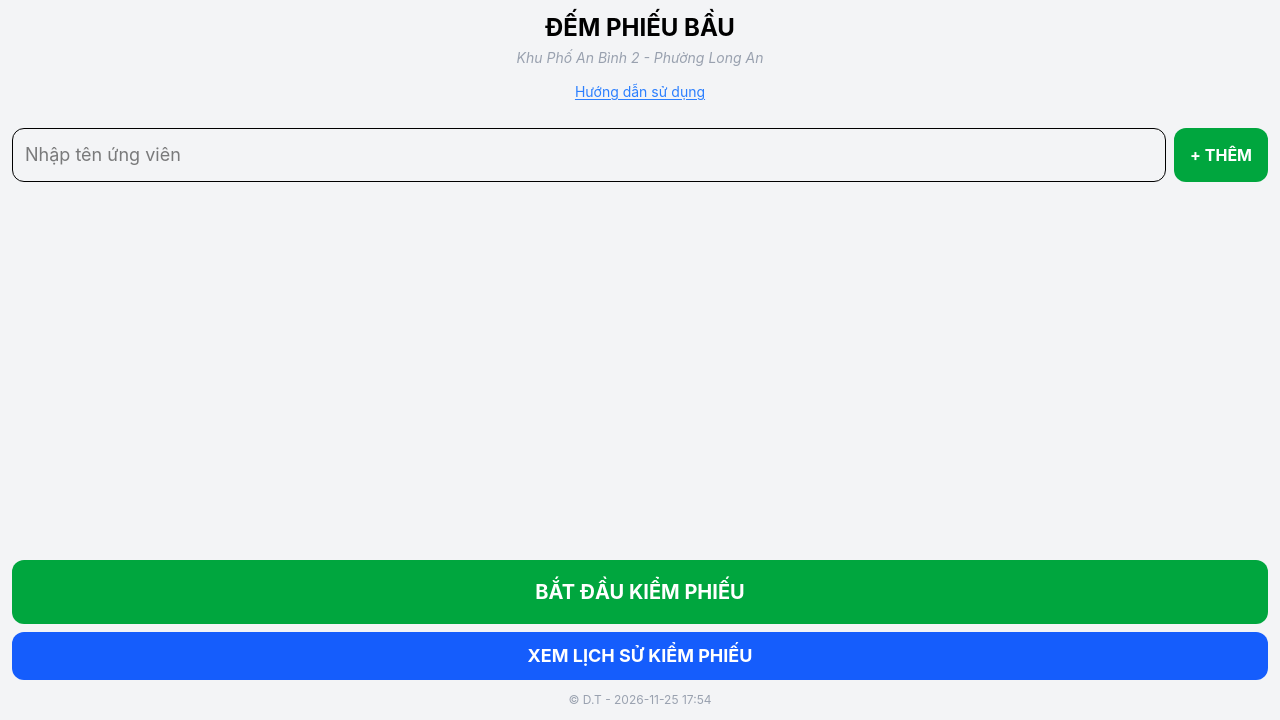
Test: Setup screen › removes a candidate
This screenshot has width=1280, height=720.
Step 1. Type "Charlie" into the field with placeholder "Nhập tên ứng viên" → (589, 155), box [12, 128, 1166, 182]
Then press Enter
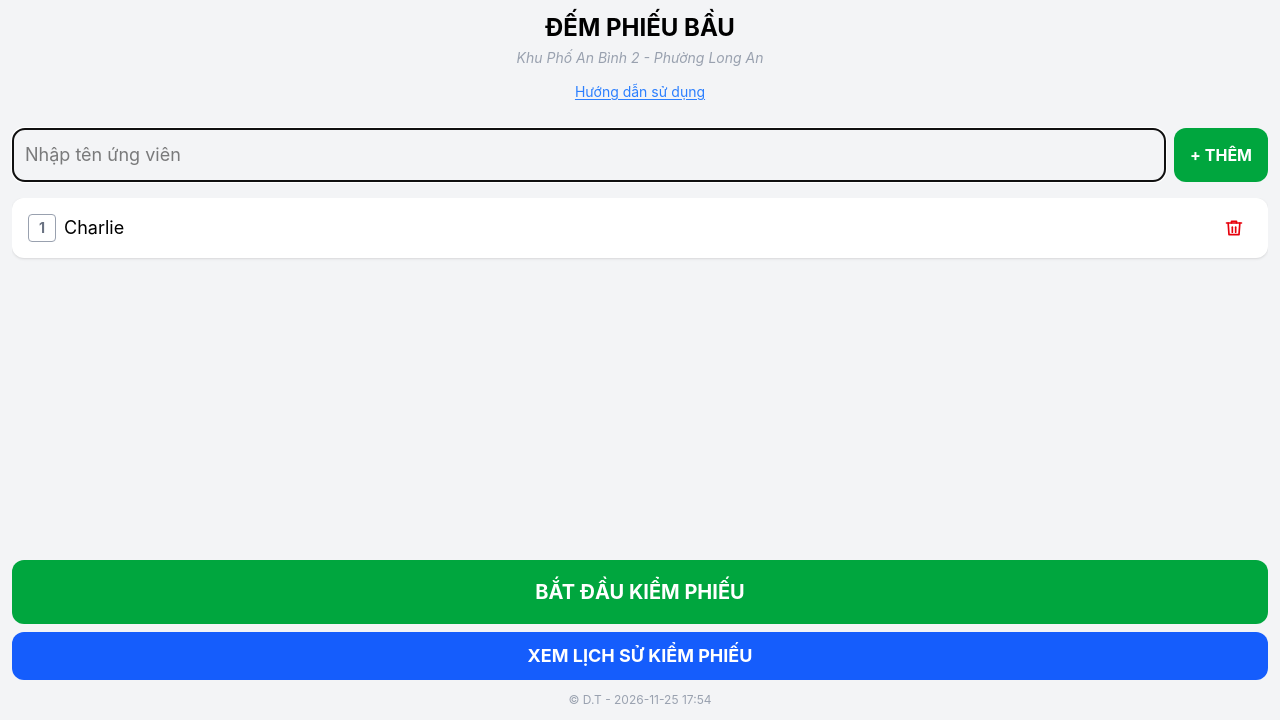
Expected: the text "Charlie" is shown, [64, 217, 124, 238]
Note: the delete button is the svg button next to the name
Step 2. Click the 3rd button → click(1234, 228), box [1216, 214, 1252, 242]
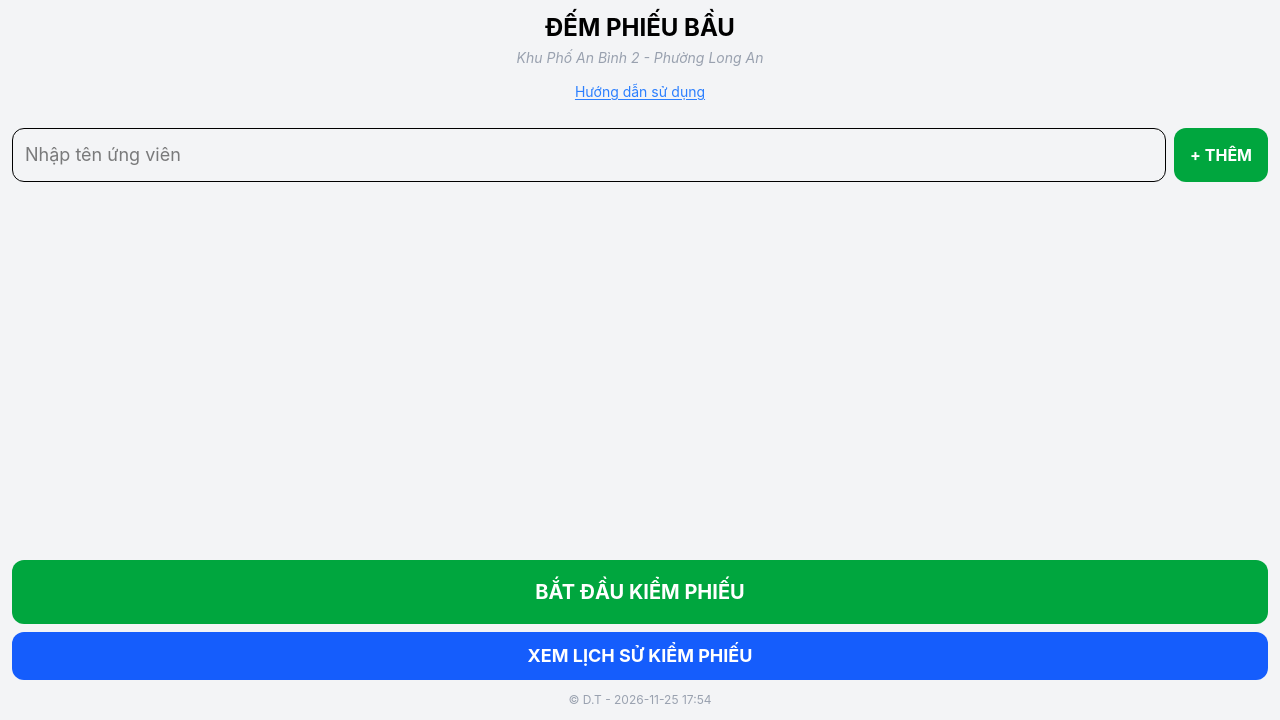
Expected: the text "Charlie" is gone
